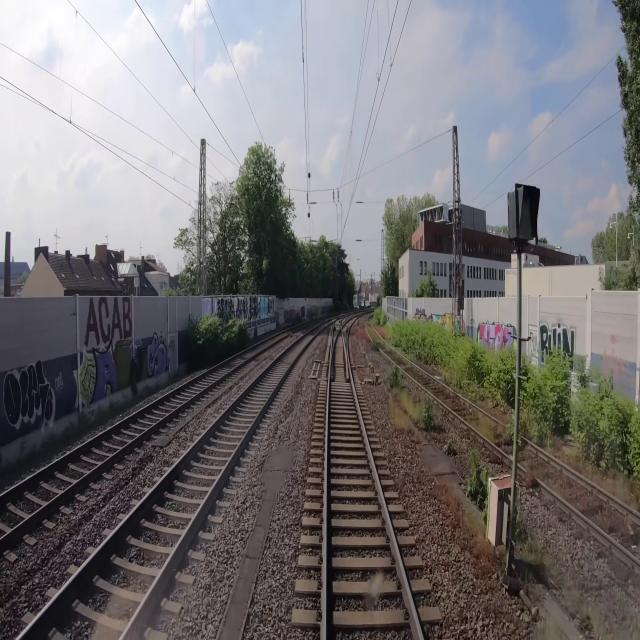Plant: (391, 366, 435, 432), (328, 310, 360, 378), (462, 448, 488, 514), (521, 537, 548, 576), (505, 421, 522, 444), (444, 438, 457, 457), (370, 340, 379, 351)
